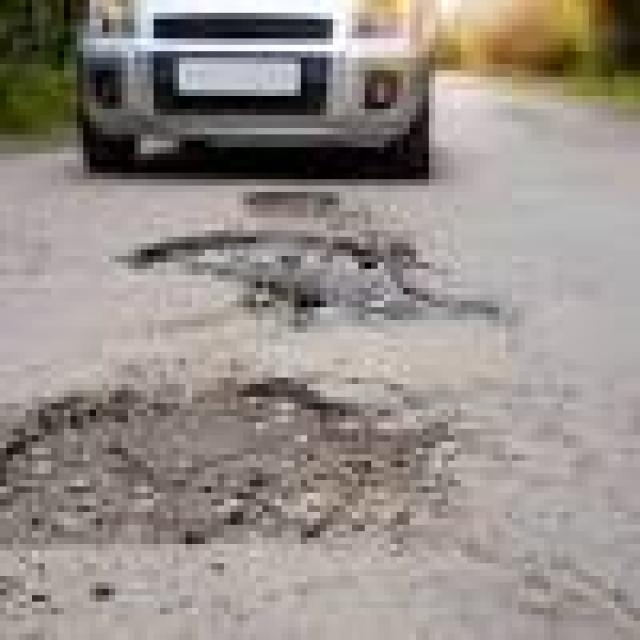Pothole: (0, 397, 461, 544), (128, 192, 493, 320)
